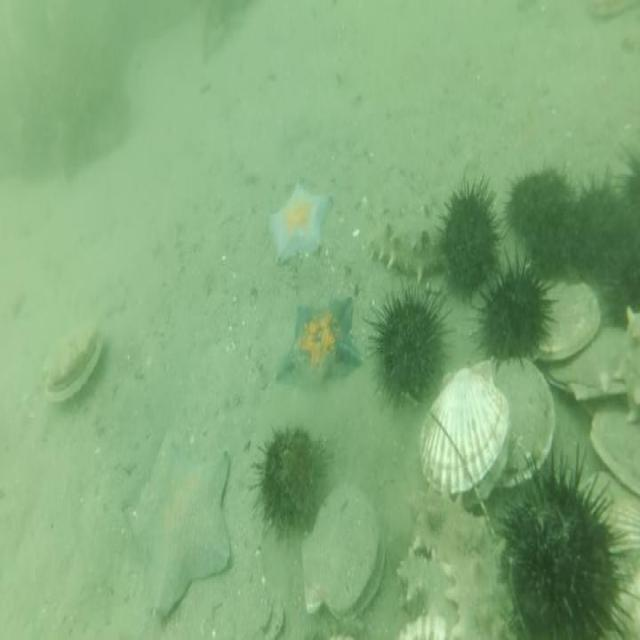echinus: (498, 437, 636, 640), (367, 278, 454, 414), (250, 422, 334, 544), (471, 256, 559, 368), (435, 177, 502, 305), (566, 176, 630, 290), (524, 198, 592, 288), (503, 161, 569, 251), (610, 152, 640, 316)
holothurian: (404, 482, 516, 640), (363, 199, 449, 286), (394, 542, 457, 640), (613, 330, 640, 430)
scallop: (298, 478, 386, 634), (420, 365, 512, 510), (578, 468, 640, 640), (495, 356, 557, 498), (546, 319, 633, 402), (534, 273, 603, 370), (40, 318, 108, 409), (588, 402, 638, 502)
starfish: (119, 423, 236, 626), (278, 294, 366, 395), (265, 176, 335, 270)
